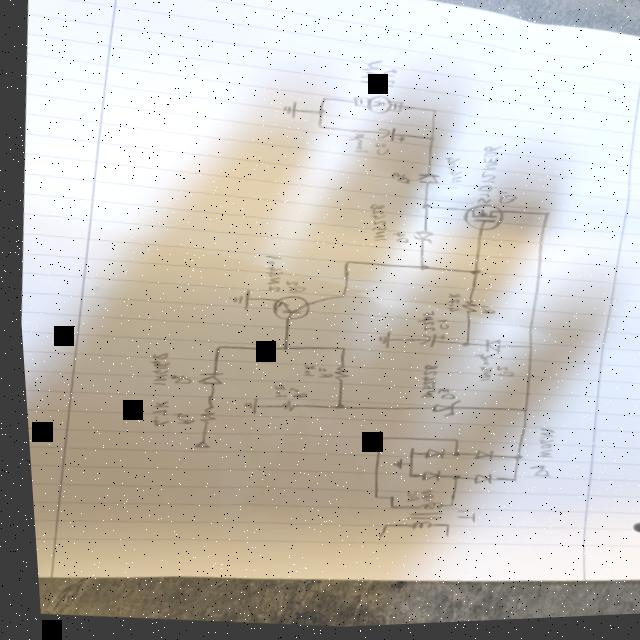capacitor: (372, 128, 406, 148), (410, 336, 438, 353)
diode: (188, 372, 221, 390), (424, 403, 455, 422), (411, 176, 439, 190), (405, 233, 431, 248), (465, 475, 489, 490), (411, 472, 435, 487), (415, 451, 439, 466), (478, 342, 498, 359), (465, 452, 487, 467)
ground: (221, 289, 248, 314), (278, 102, 297, 122), (370, 333, 389, 352), (236, 399, 254, 418), (383, 461, 397, 474)
junction: (535, 214, 551, 224), (400, 451, 410, 461), (417, 206, 429, 214), (414, 267, 425, 275), (274, 347, 285, 355), (313, 111, 324, 119), (317, 98, 328, 106), (465, 273, 477, 280), (328, 406, 340, 413), (506, 458, 516, 466), (443, 478, 454, 485), (338, 262, 349, 269), (444, 455, 454, 462), (313, 126, 323, 133), (520, 349, 530, 356), (208, 346, 218, 353), (380, 507, 389, 514), (333, 297, 343, 303), (514, 413, 524, 419), (380, 498, 389, 504), (425, 140, 434, 146), (435, 527, 444, 533), (439, 506, 448, 512), (370, 438, 379, 444), (374, 526, 383, 532), (365, 497, 373, 503), (456, 345, 464, 351), (503, 481, 511, 487), (445, 442, 454, 447), (399, 477, 406, 483), (334, 349, 342, 354), (428, 113, 436, 118), (400, 465, 407, 470)
resistor: (191, 406, 212, 427), (325, 368, 344, 386), (454, 302, 474, 319), (271, 401, 292, 415)
terminal: (186, 442, 204, 451), (368, 536, 377, 544), (434, 537, 443, 543)
text: (469, 147, 504, 210), (361, 205, 388, 248), (256, 256, 283, 295), (139, 352, 167, 389), (438, 160, 466, 195), (410, 367, 435, 403), (526, 432, 550, 465), (141, 400, 166, 429), (357, 61, 382, 89), (411, 313, 435, 338), (469, 358, 489, 387), (344, 135, 368, 159), (376, 71, 398, 93), (519, 467, 545, 484), (492, 194, 517, 211), (439, 295, 458, 317), (489, 367, 512, 384), (164, 413, 190, 428), (445, 512, 470, 527), (278, 281, 303, 296), (281, 388, 303, 403), (385, 233, 407, 248), (162, 374, 187, 387), (430, 390, 451, 405), (387, 175, 409, 189), (370, 145, 388, 160), (264, 386, 282, 401), (310, 369, 328, 382), (295, 366, 311, 380), (473, 308, 492, 319), (430, 323, 446, 336), (397, 493, 412, 506), (412, 493, 427, 506)
transformer: (394, 502, 437, 536)
transistor: (456, 205, 503, 238), (264, 295, 311, 326)
